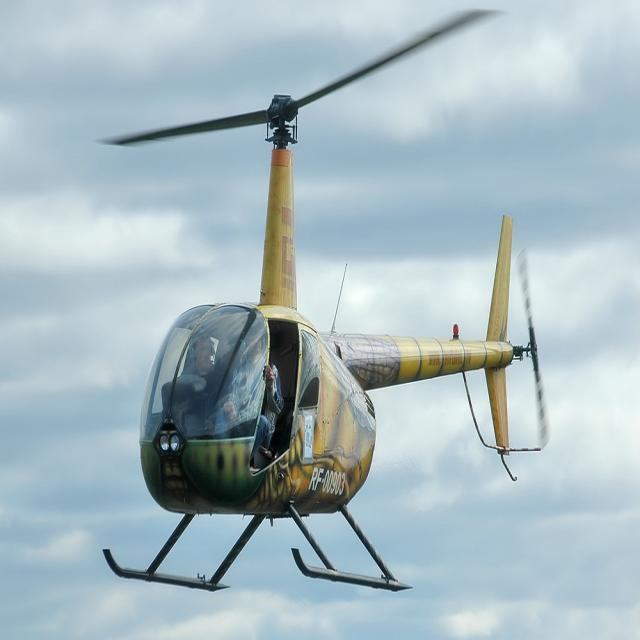CIV_HELO: (104, 91, 528, 594)
